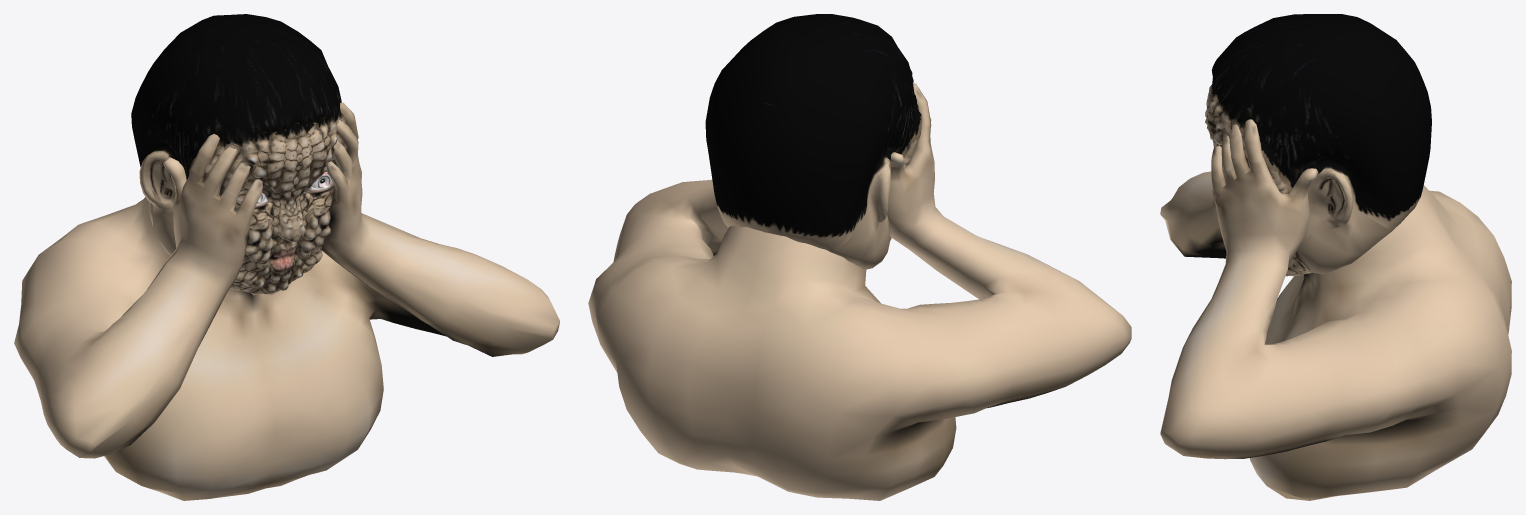
File: OilBoy02.FBX
3 renders of one model, left to right at view 1: azimuth 30°, elevation 25°; view 2: azimuth 150°, elevation 25°; view 3: azimuth 270°, elevation 25°, orthographic.
Parts seen in each view (by area): view 1: bady_1; view 2: bady_1; view 3: bady_1.
Boxes of the visible parts, <box> form: bady_1: <box>14,14,559,500</box>; bady_1: <box>588,14,1131,500</box>; bady_1: <box>1160,14,1511,500</box>.
Size of the model in its own units: 25.35 by 21.98 by 15.78.
